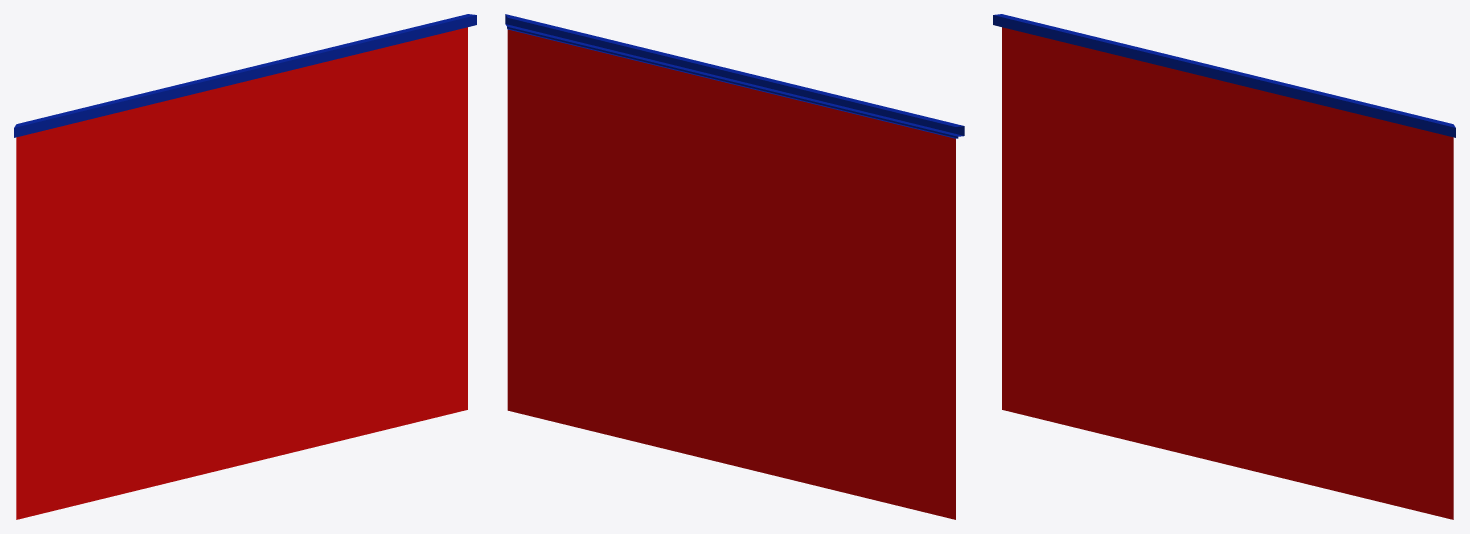
Rendered from MDL_U_B2_V1_Wall.fbx.
The picture shows the model from 3 angles, left to right: view 1: azimuth 30°, elevation 25°; view 2: azimuth 150°, elevation 25°; view 3: azimuth 330°, elevation 25°; orthographic projection.
Parts seen in each view (by area): view 1: MDL_U_B2_V1_Wall; view 2: MDL_U_B2_V1_Wall; view 3: MDL_U_B2_V1_Wall.
Part boxes in pixels (left/top/right/bottom): MDL_U_B2_V1_Wall: left=14, top=14, right=476, bottom=519; MDL_U_B2_V1_Wall: left=505, top=14, right=964, bottom=519; MDL_U_B2_V1_Wall: left=993, top=14, right=1455, bottom=519.
Bounding box in the file's own units: 1640 × 1340 × 20.
